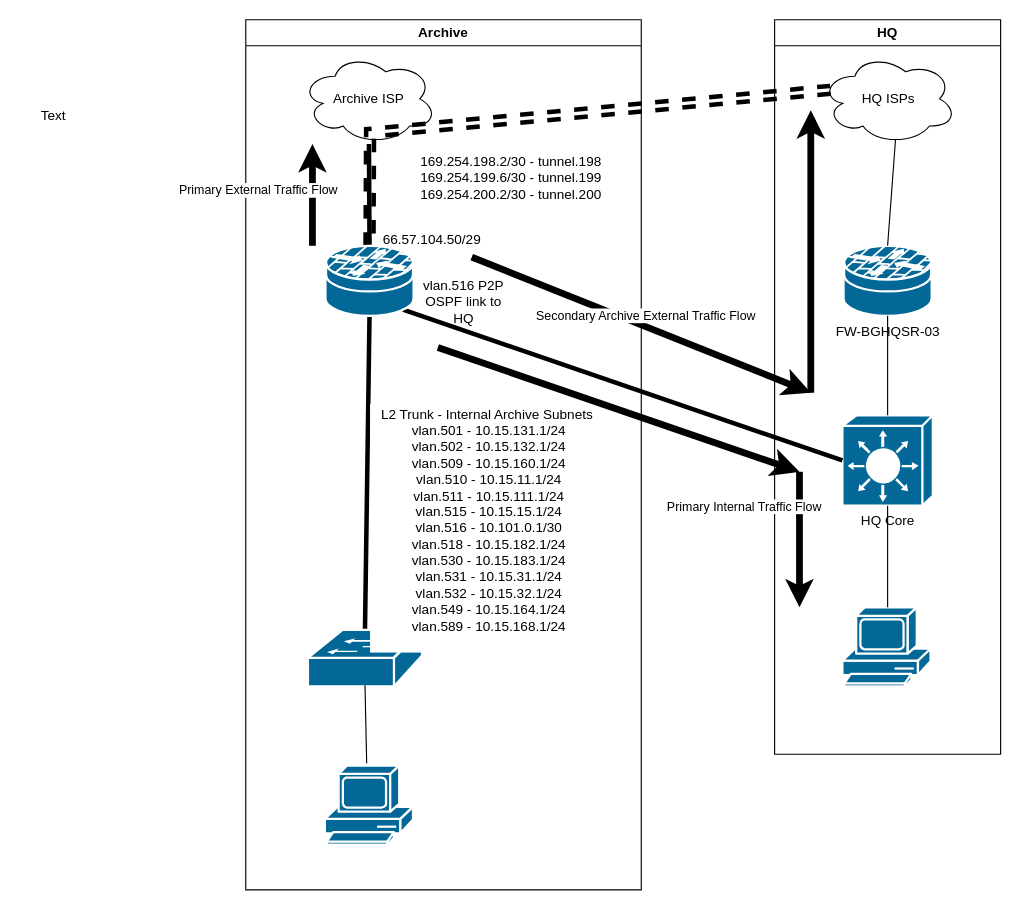
Image size: 1020x910. Some labels were removed from this diagram. The shapes that lost their labels are listed below. From the top down, each one's centre as x and y in pixels, then its label:
[369,280]: FW-BGARCSR-01
[364,657]: sw-clt-arch-nr-main
[886,646]: HQ Hosts
[368,804]: Archive Hosts
